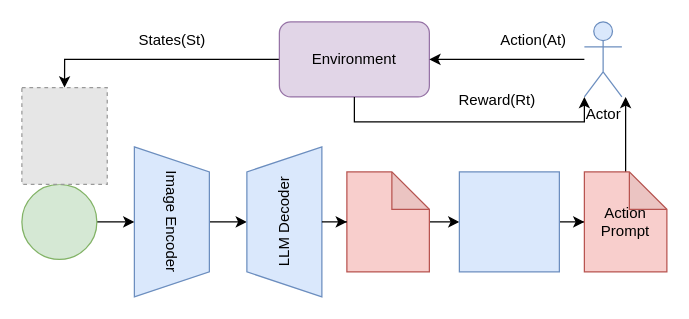
Some shapes in this 689 by 319 pixel diagram are drawn without their labels. Grey dashed boxes stand in for pictures. The centre of each missing label's shape, as x and y in pixels:
"Explaination Prompt" belongs at point 387,221.
"Image" belongs at point 59,221.
"LLM Interpreter" belongs at point 508,221.
